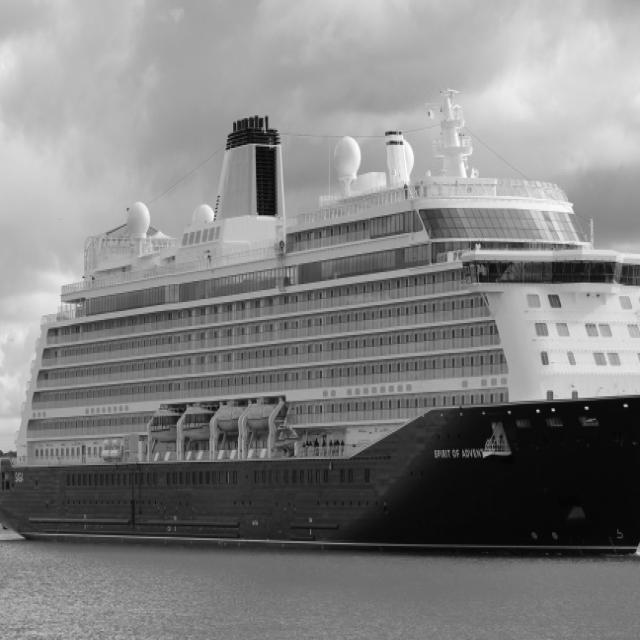cruises: (1, 76, 640, 574)
